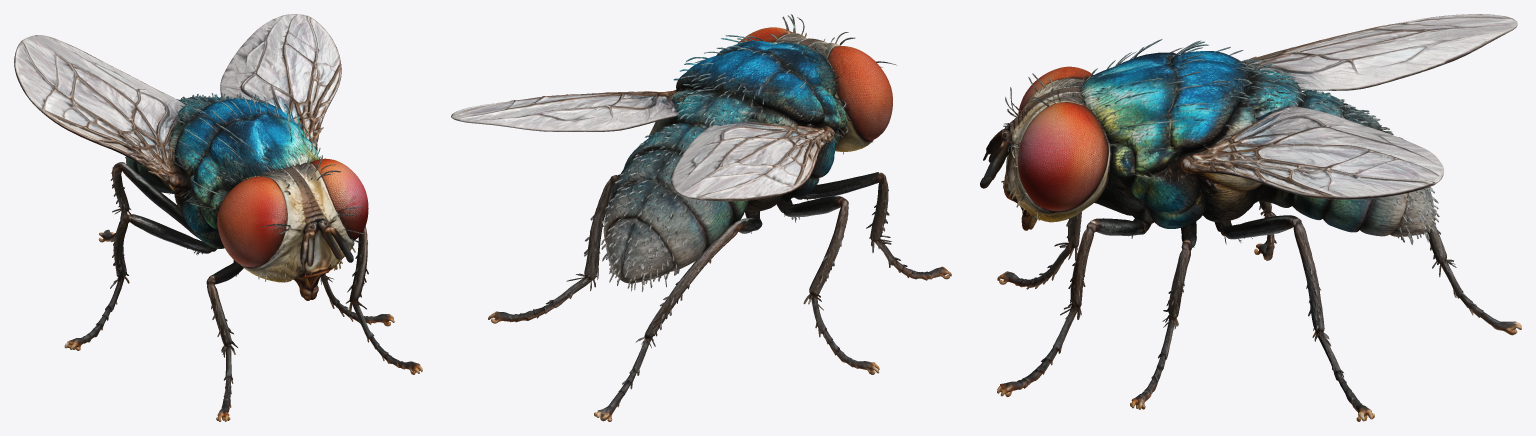
The model's file is iridescent-fly.glb.
3 views of the same model, side by side, from view 1: azimuth 30°, elevation 25°; view 2: azimuth 150°, elevation 25°; view 3: azimuth 270°, elevation 25° (orthographic). The views are drawn at different scales.
Visible parts, largest first — view 1: tripo_node_1a439e5d-ffd4-4972-98d3-6e879e84a77b; view 2: tripo_node_1a439e5d-ffd4-4972-98d3-6e879e84a77b; view 3: tripo_node_1a439e5d-ffd4-4972-98d3-6e879e84a77b.
Boxes of the visible parts, bbox=[...] form: tripo_node_1a439e5d-ffd4-4972-98d3-6e879e84a77b: bbox=[14, 14, 422, 421]; tripo_node_1a439e5d-ffd4-4972-98d3-6e879e84a77b: bbox=[451, 14, 951, 421]; tripo_node_1a439e5d-ffd4-4972-98d3-6e879e84a77b: bbox=[980, 14, 1521, 421].
Size of the model in its own units: 0.7977 by 0.5741 by 0.9786.
Materials: 1 (1 with a texture image).
